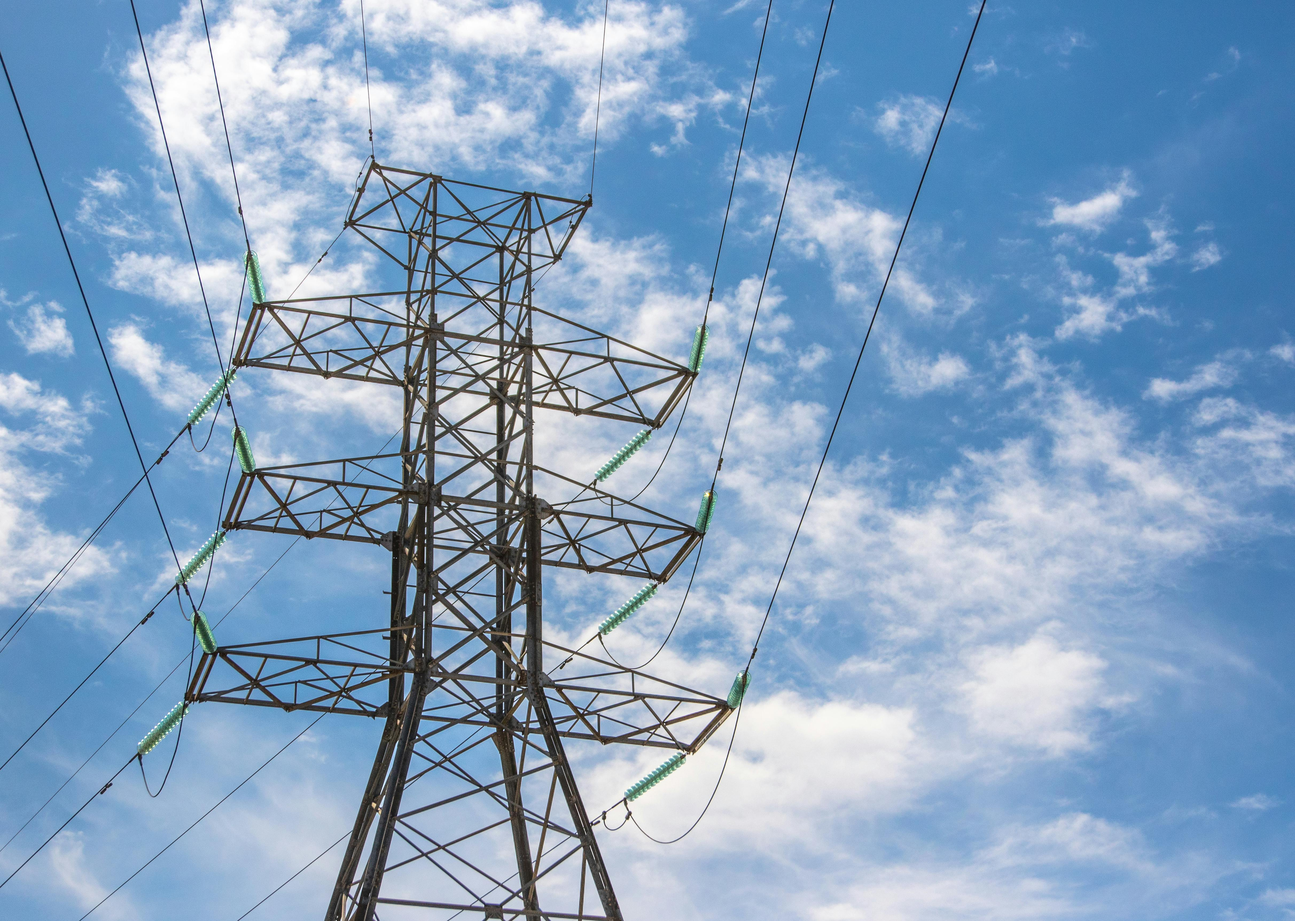insulator: (594, 579, 663, 641), (622, 751, 700, 803), (183, 363, 241, 427), (132, 700, 196, 758), (174, 522, 228, 590), (590, 428, 659, 481), (228, 425, 259, 471), (694, 482, 720, 536), (189, 608, 217, 657), (684, 322, 707, 379), (244, 243, 263, 308), (729, 660, 746, 719)
